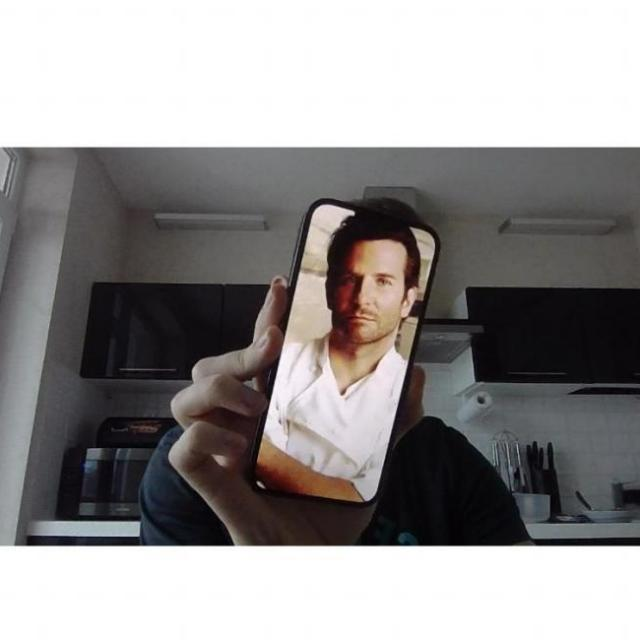device: (237, 196, 446, 508)
